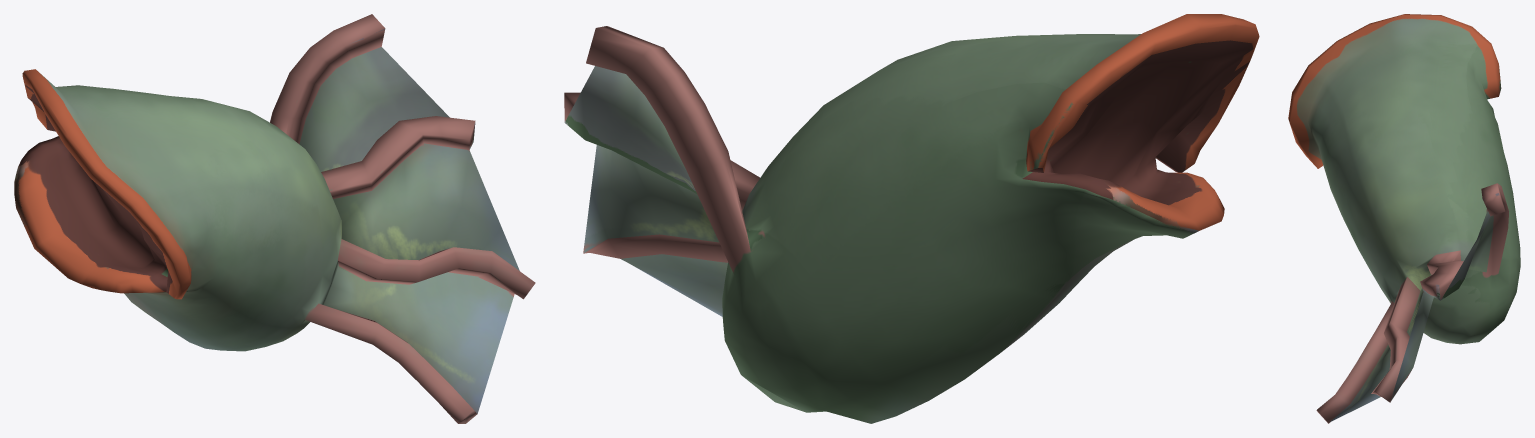
File: snake.obj
The picture shows the model from 3 angles, left to right: view 1: azimuth 30°, elevation 25°; view 2: azimuth 150°, elevation 25°; view 3: azimuth 270°, elevation 25°; orthographic projection. The views are drawn at different scales.
Bounding box in the file's own units: 1.79 × 1.36 × 1.02.
